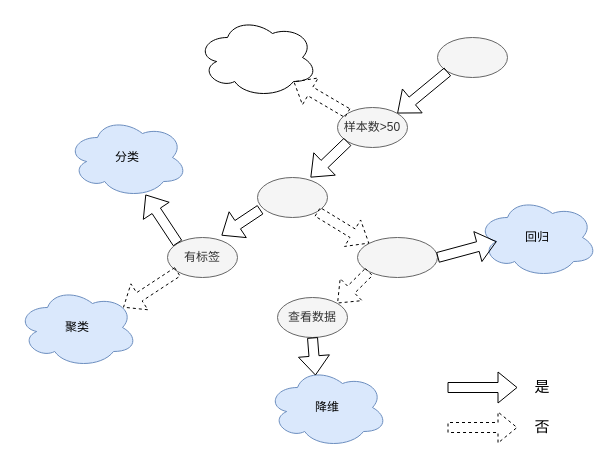
Some shapes in this 615 by 465 pixel diagram are drawn without their labels. The centre of each missing label's shape, as x and y in pixels:
"增加样本" belongs at (x=257, y=57).
"开始" belongs at (x=472, y=57).
"需要分类" belongs at (x=292, y=197).
"需要预测数值" belongs at (x=397, y=257).
